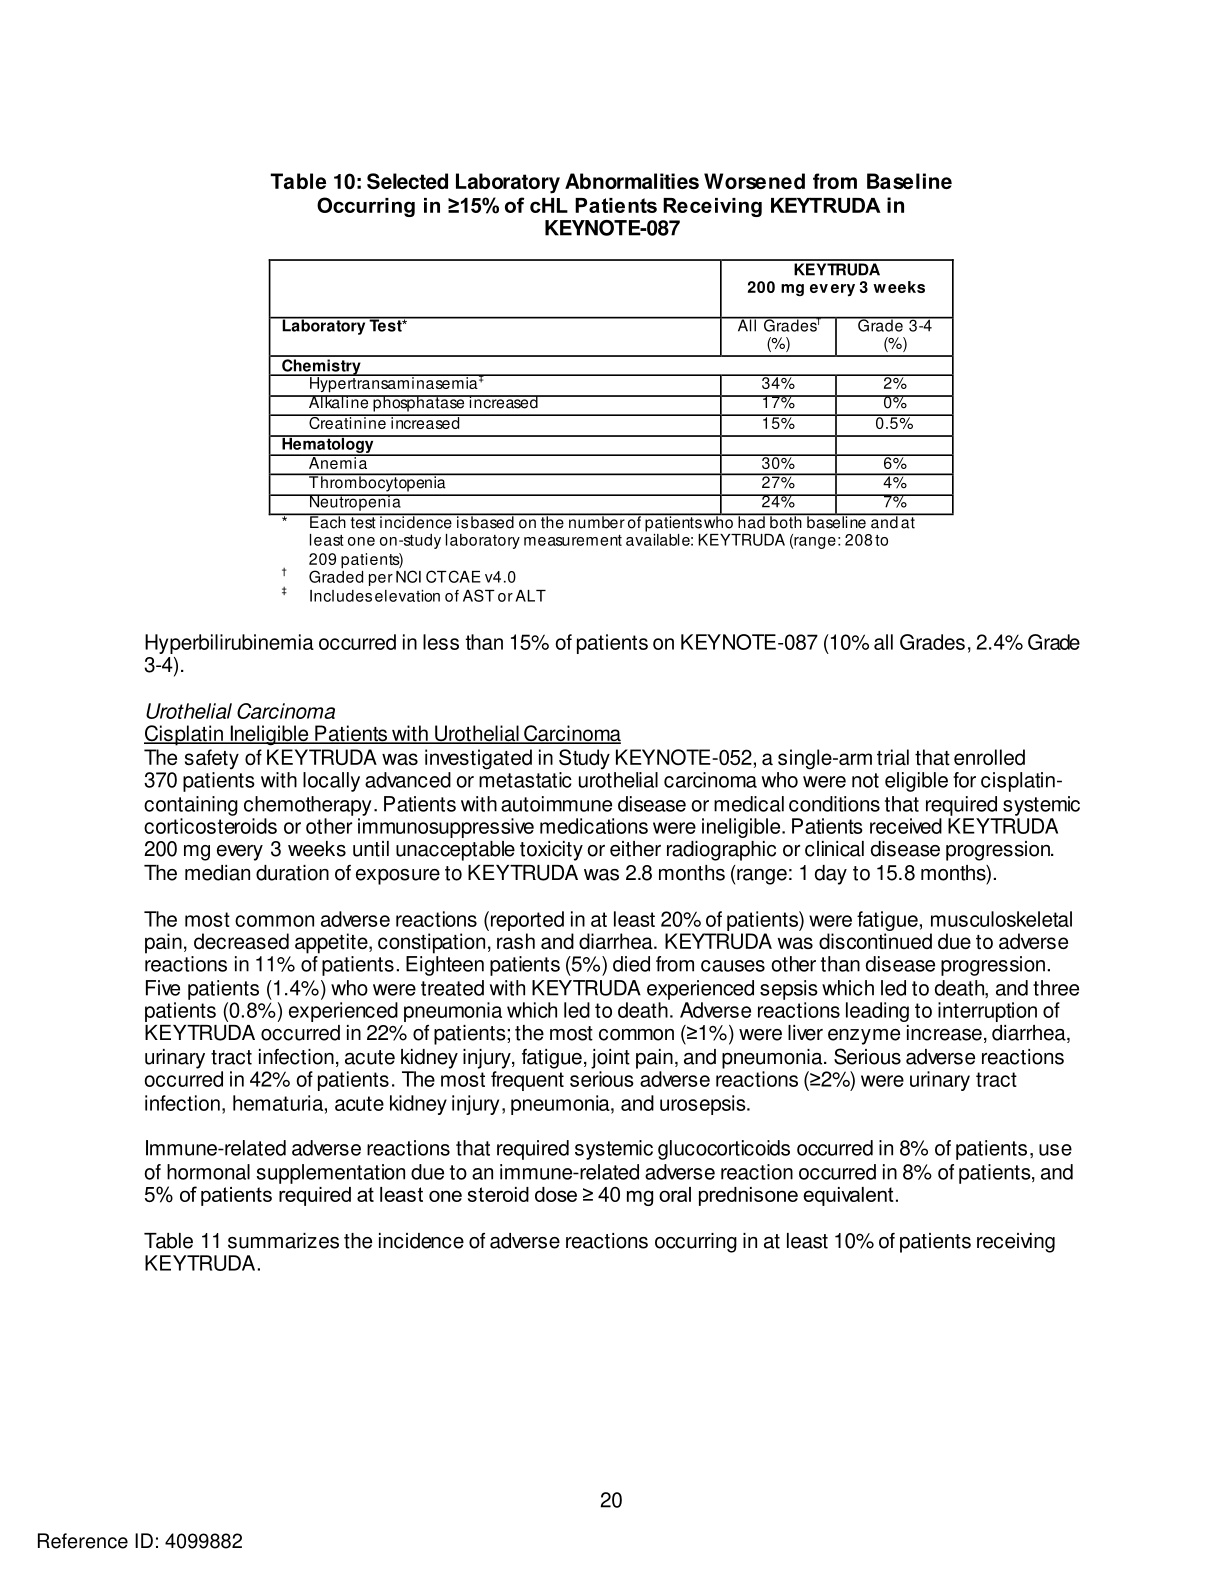merged_cells: (267, 257, 953, 516)
